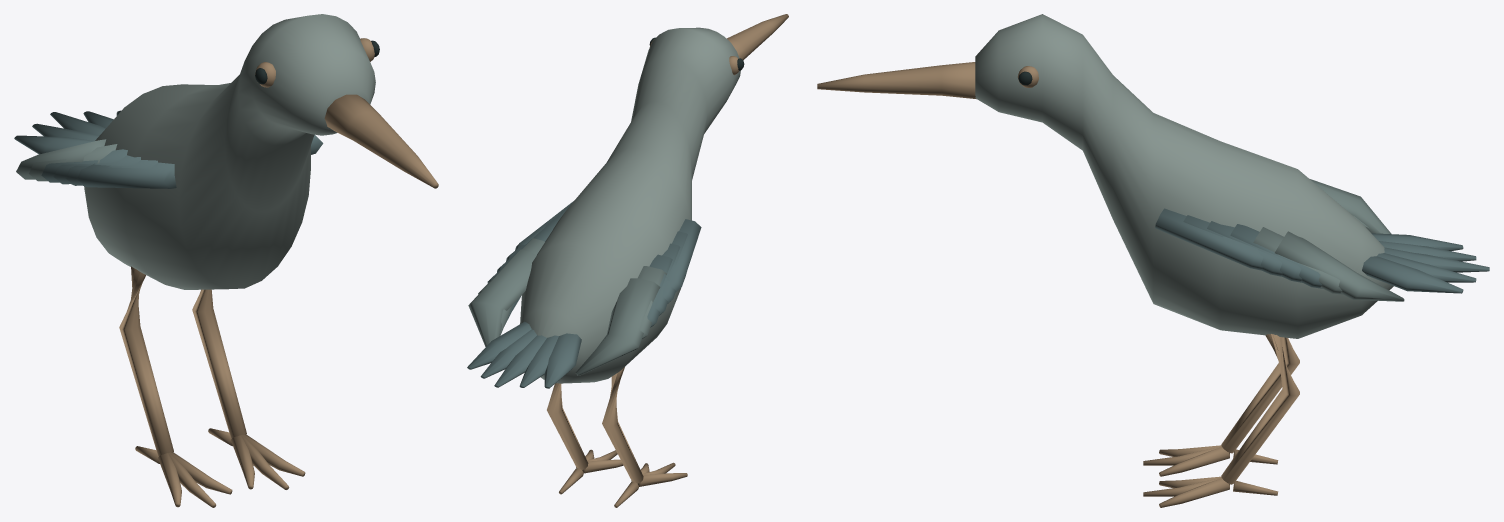
Rendered from longipteryx.glb.
The picture shows the model from 3 angles, left to right: view 1: azimuth 30°, elevation 25°; view 2: azimuth 150°, elevation 25°; view 3: azimuth 270°, elevation 25°; orthographic projection. The views are drawn at different scales.
Visible parts, largest first — view 1: continuous-breast-neck-head, legs-and-separated-toes, layered-folded-feather-wings, elongate-narrow-snout, short-feathered-tail-fan, eyes-with-subtle-socket; view 2: continuous-breast-neck-head, layered-folded-feather-wings, short-feathered-tail-fan, legs-and-separated-toes, elongate-narrow-snout; view 3: continuous-breast-neck-head, layered-folded-feather-wings, legs-and-separated-toes, short-feathered-tail-fan, elongate-narrow-snout.
Boxes of the visible parts, x1,y1,x2,y2 form: continuous-breast-neck-head: (84,14,375,289); legs-and-separated-toes: (119,266,305,507); layered-folded-feather-wings: (16,135,323,188); elongate-narrow-snout: (324,94,438,188); short-feathered-tail-fan: (14,110,120,154); eyes-with-subtle-socket: (255,38,379,87); continuous-breast-neck-head: (520,27,740,383); layered-folded-feather-wings: (468,201,701,375); short-feathered-tail-fan: (467,321,581,388); legs-and-separated-toes: (547,367,687,507); elongate-narrow-snout: (726,14,788,60); continuous-breast-neck-head: (975,14,1393,338); layered-folded-feather-wings: (1155,179,1404,301); legs-and-separated-toes: (1143,334,1299,507); short-feathered-tail-fan: (1362,233,1489,293); elongate-narrow-snout: (817,62,976,99).
Bounding box in the file's own units: 0.0679 × 0.1515 × 0.2.
